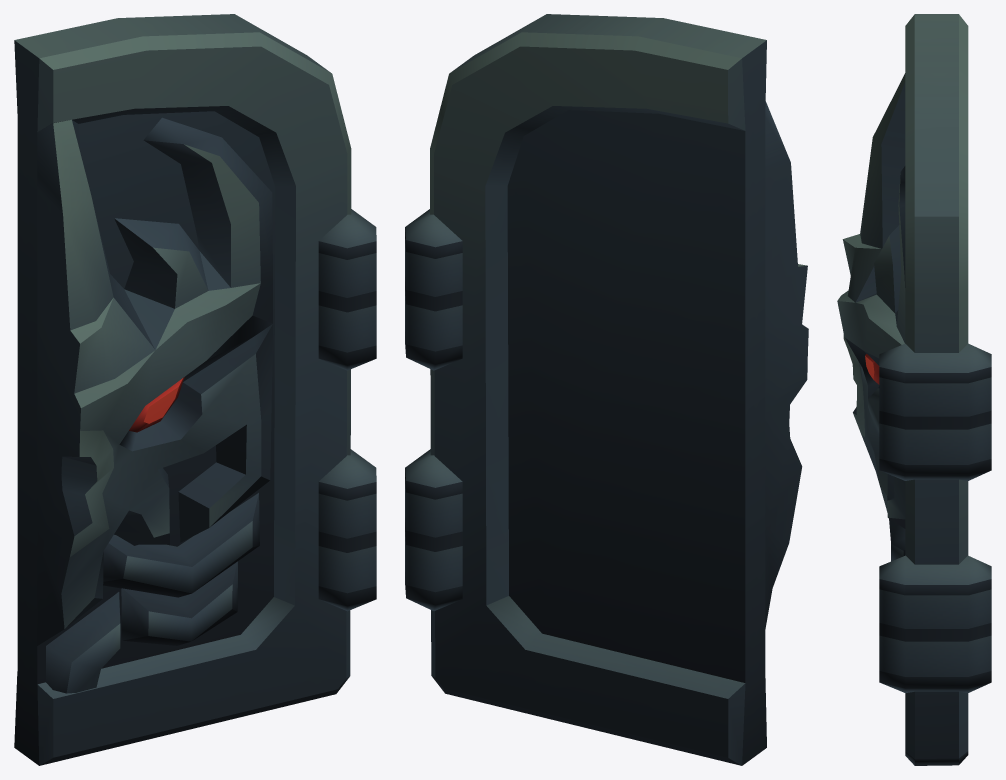
File: door_large_right.fbx
3 views of the same model, side by side, from view 1: azimuth 30°, elevation 25°; view 2: azimuth 150°, elevation 25°; view 3: azimuth 270°, elevation 25° (orthographic). The views are drawn at different scales.
Parts seen in each view (by area): view 1: door_large_right; view 2: door_large_right; view 3: door_large_right.
Part boxes in pixels (x1,y1,x2,y2): door_large_right: (14,14,376,765); door_large_right: (405,14,808,765); door_large_right: (837,14,991,765).
Size of the model in its own units: 160 by 326 by 73.22.
